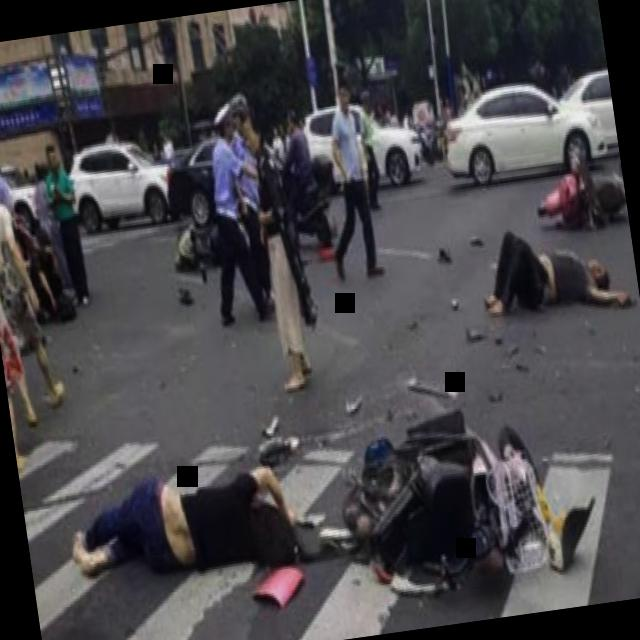Fall-Detected: (534, 140, 630, 236)
